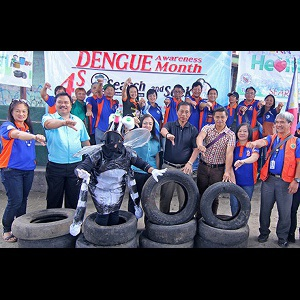tire: (140, 169, 199, 226), (11, 205, 82, 239), (201, 182, 251, 230), (82, 211, 138, 245), (197, 214, 250, 245), (144, 219, 198, 244)
